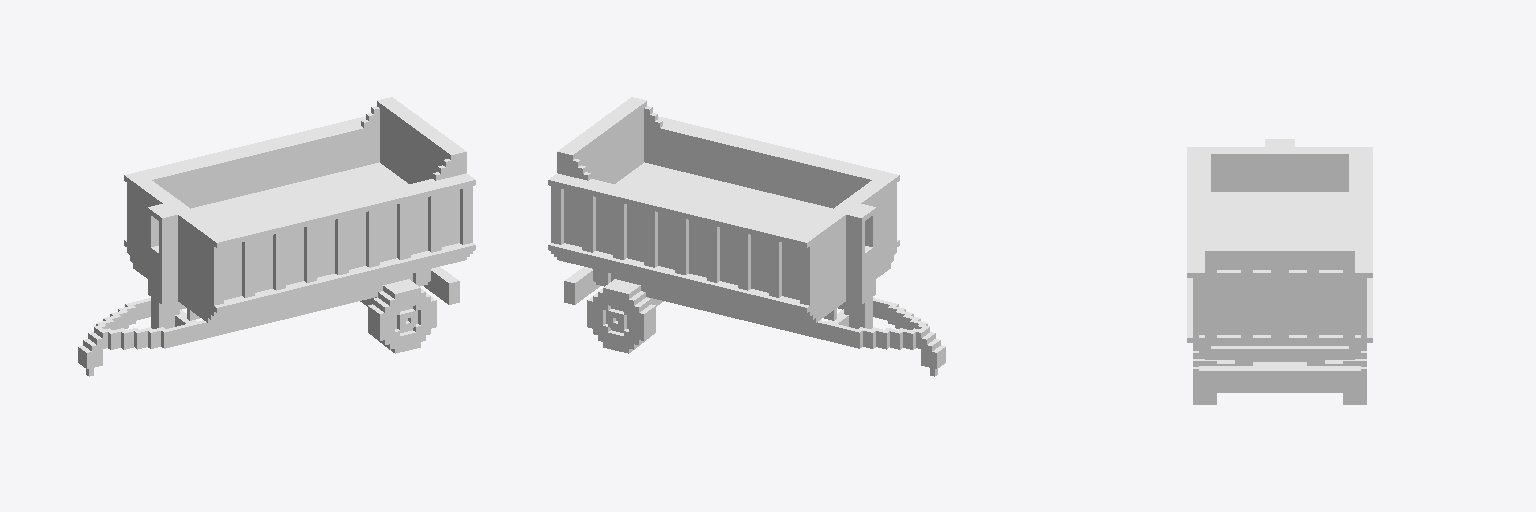
Rendered from Trailer_Wheat_Level_2.obj.
3 views of the same model, side by side, from view 1: azimuth 30°, elevation 25°; view 2: azimuth 150°, elevation 25°; view 3: azimuth 270°, elevation 25° (orthographic).
Parts seen in each view (by area): view 1: Trailer_Wheat_Level_2; view 2: Trailer_Wheat_Level_2; view 3: Trailer_Wheat_Level_2.
Part boxes in pixels (left/top/right/bottom): Trailer_Wheat_Level_2: left=78, top=97, right=475, bottom=376; Trailer_Wheat_Level_2: left=548, top=97, right=945, bottom=376; Trailer_Wheat_Level_2: left=1187, top=139, right=1372, bottom=404.
Size of the model in its own units: 67 by 33 by 31.